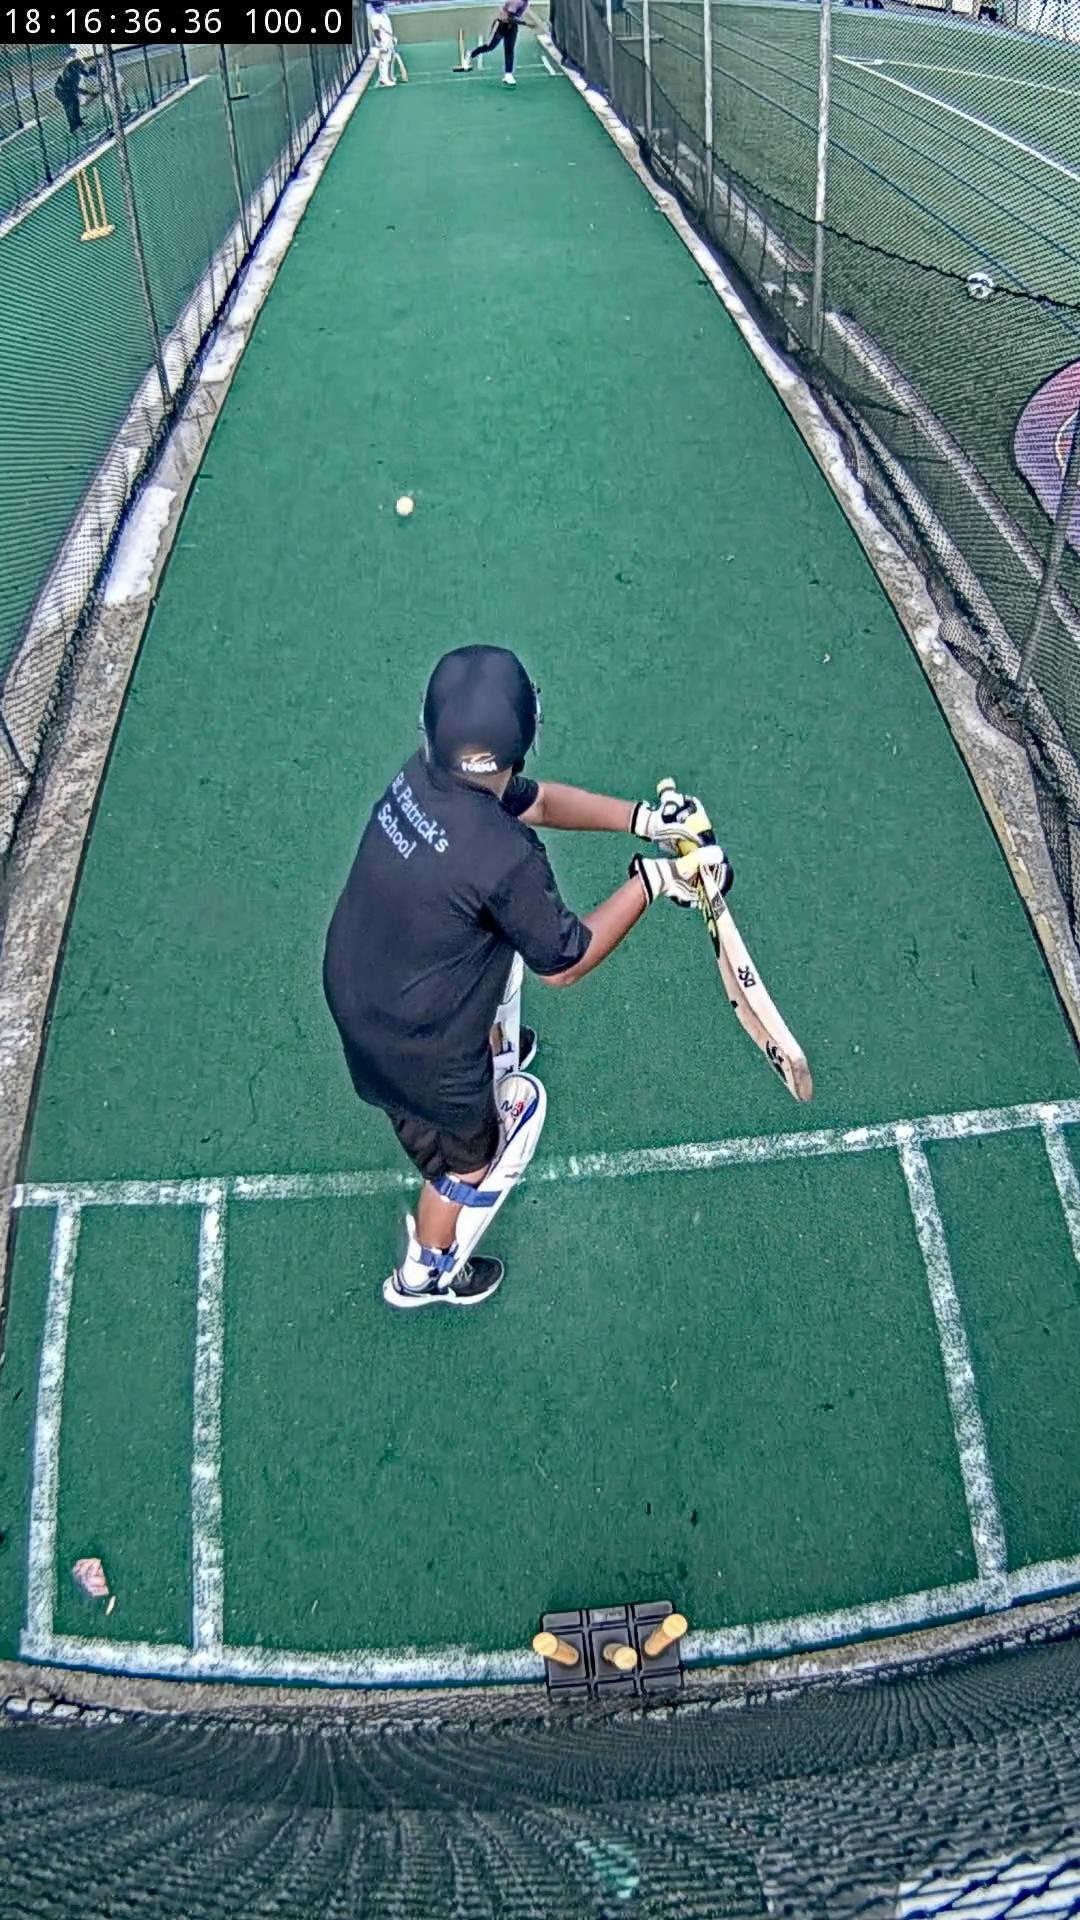ball: (394, 495, 417, 517)
bat: (698, 870, 814, 1102)
gloves: (630, 783, 732, 907)
helmet: (423, 645, 541, 774)
pads: (450, 1072, 547, 1273), (495, 952, 525, 1058)
stumps: (533, 1601, 686, 1701)
